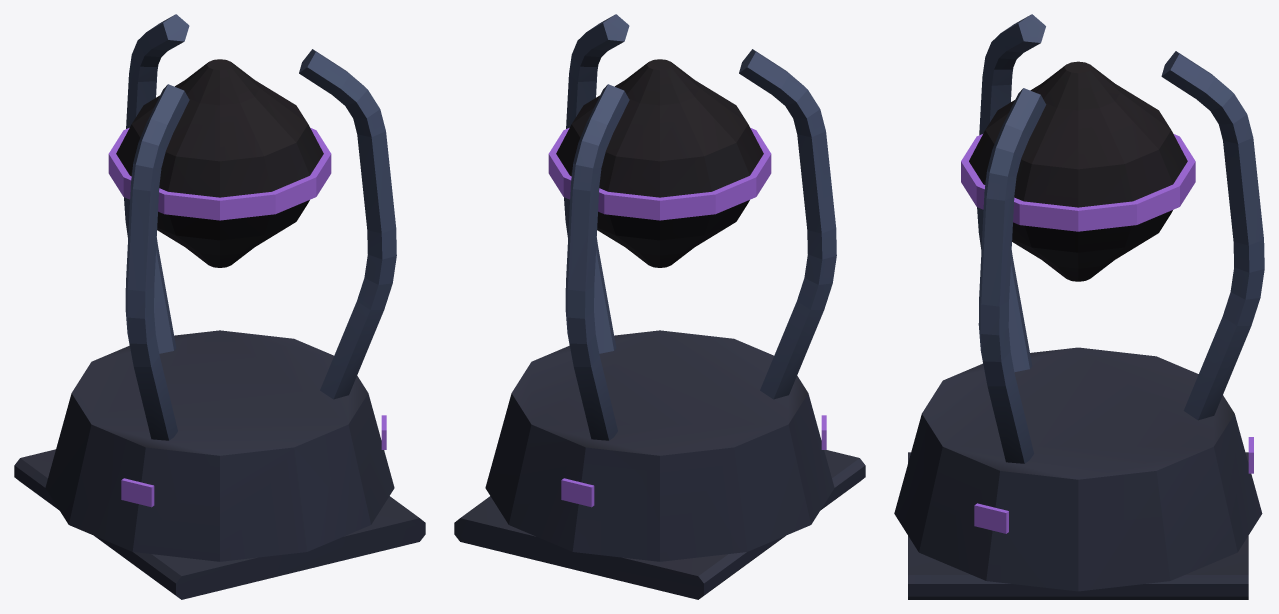
The model's file is sh-gravity.glb.
3 renders of one model, left to right at view 1: azimuth 30°, elevation 25°; view 2: azimuth 150°, elevation 25°; view 3: azimuth 270°, elevation 25°, orthographic. The views are drawn at different scales.
Visible parts, largest first — view 1: Body, Glow; view 2: Body, Glow; view 3: Body, Glow.
Part boxes in pixels (<box>): Body: <box>14,14,425,599</box>; Glow: <box>108,128,386,507</box>; Body: <box>454,14,865,599</box>; Glow: <box>548,128,826,507</box>; Body: <box>894,14,1264,599</box>; Glow: <box>961,134,1253,533</box>.
Size of the model in its own units: 0.8 by 1.17 by 0.8051.
